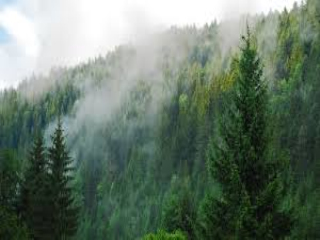smoke: (52, 48, 178, 172)
